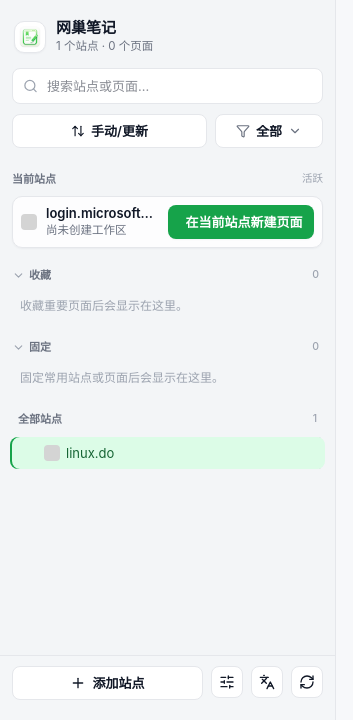
Test: Sidebar current site entry › renders quick section settings as separated switch rows
The width and height of the screenshot is (353, 720).
Click the button with test id "quick-sections-settings-button" at x=227, y=682, box left=211, top=666, right=243, bottom=698
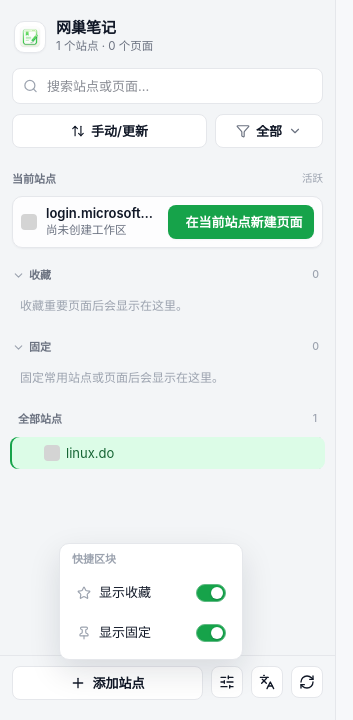
Expected: the text "快捷区块" is shown, left=72, top=552, right=116, bottom=566
